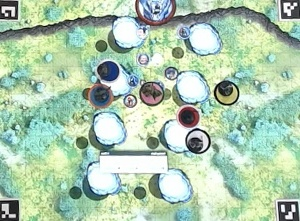blue: (97, 59, 120, 83)
light_blue_orange: (88, 84, 111, 107)
lime_green_violet: (216, 81, 239, 104)
pink_green: (140, 83, 163, 106)
red: (177, 105, 200, 128)
white: (186, 131, 209, 154)
